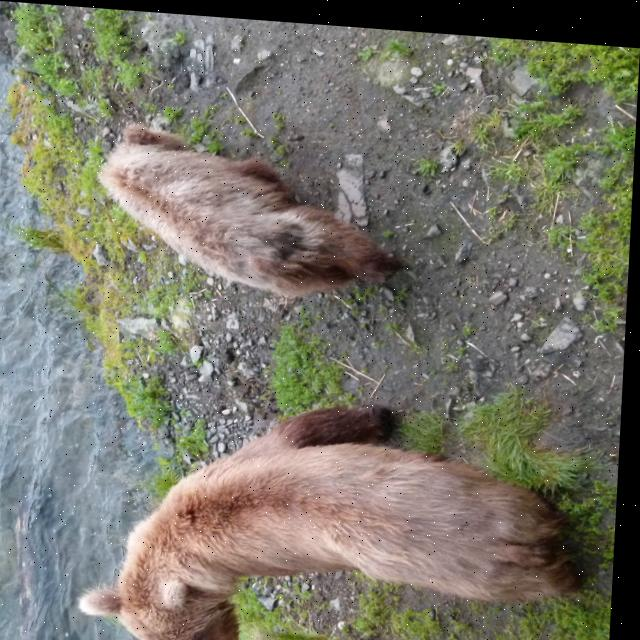bear face: (82, 377, 603, 640), (97, 119, 413, 299)
